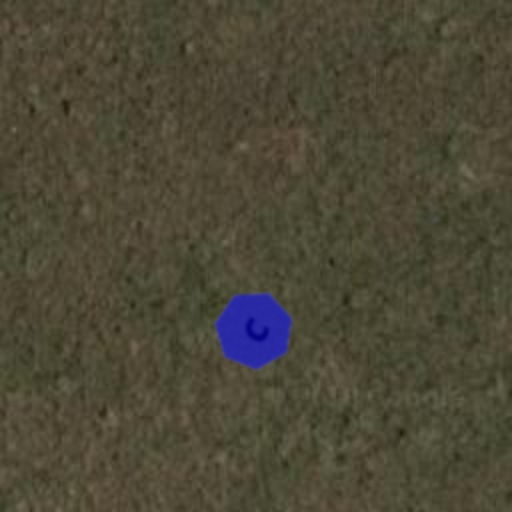heptagon: (200, 276, 308, 384)
